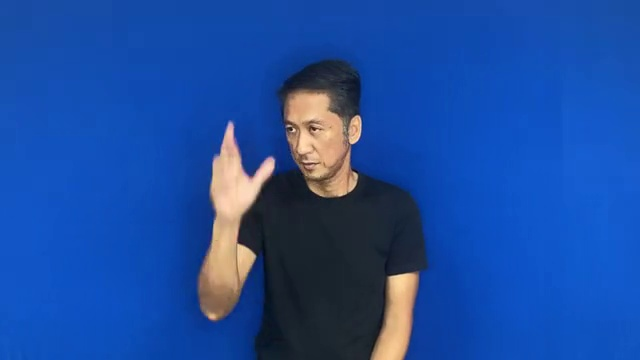chicken: (181, 112, 282, 226)
